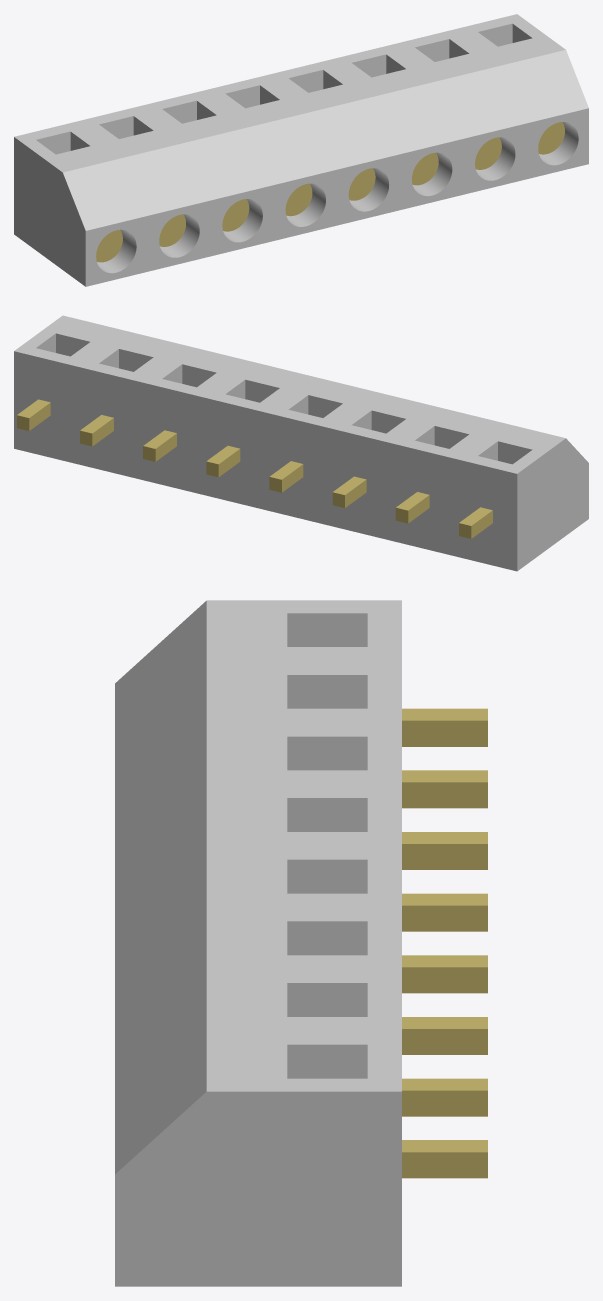
The model's file is screw_terminal_5_08_8pin.glb.
The picture shows the model from 3 angles, top to bottom: view 1: azimuth 30°, elevation 25°; view 2: azimuth 150°, elevation 25°; view 3: azimuth 270°, elevation 25°; orthographic projection. The views are drawn at different scales.
Parts seen in each view (by area): view 1: world; view 2: world; view 3: world.
Part boxes in pixels (x1,y1,x2,y2): world: (14,14,588,286); world: (14,315,588,571); world: (115,600,487,1286).
Size of the model in its own units: 40.48 by 7.5 by 13.
